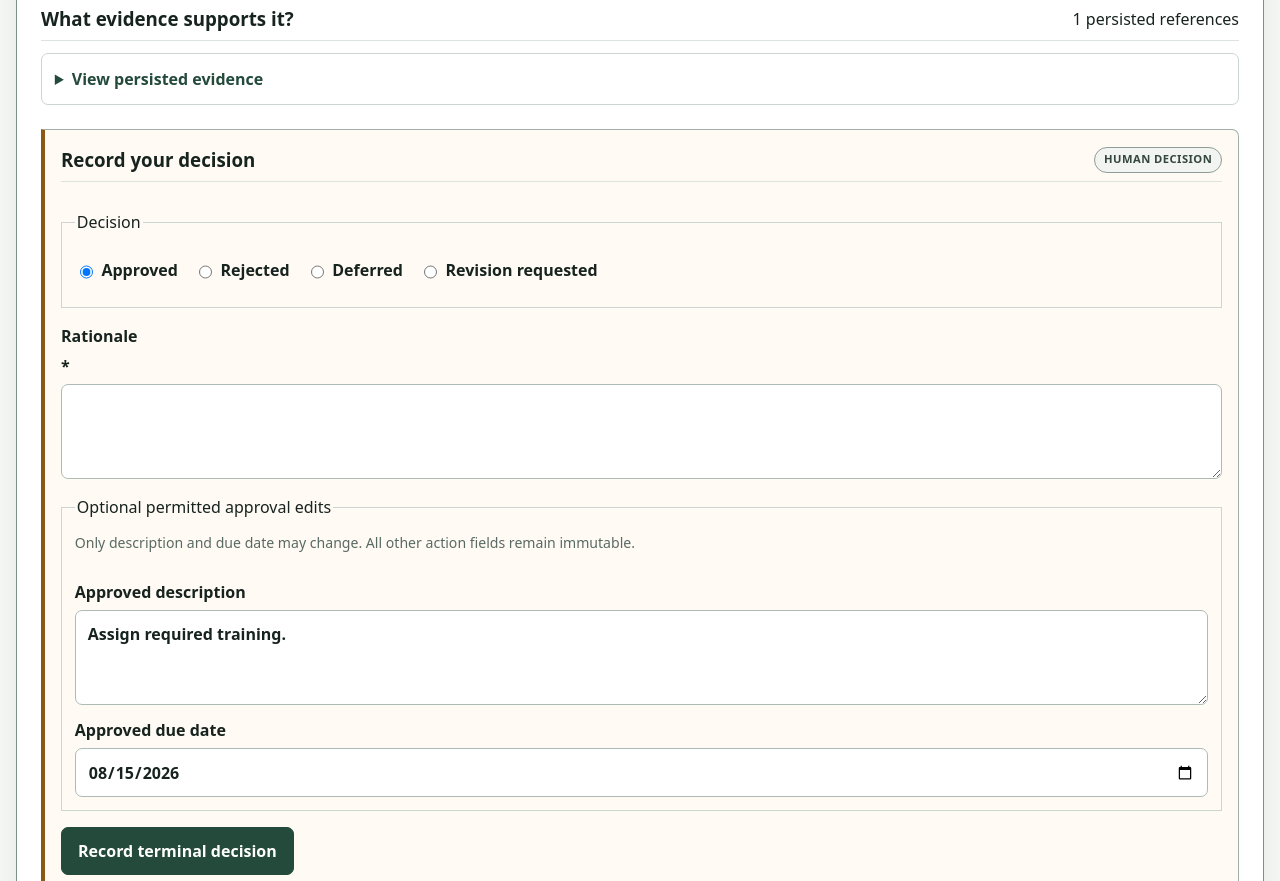
Test: approval workbench › reloads and explains an already-decided conflict
(page scrolled)
In the text box labelled "Rationale *": (642, 432) [61,384,1222,479], type "My decision."
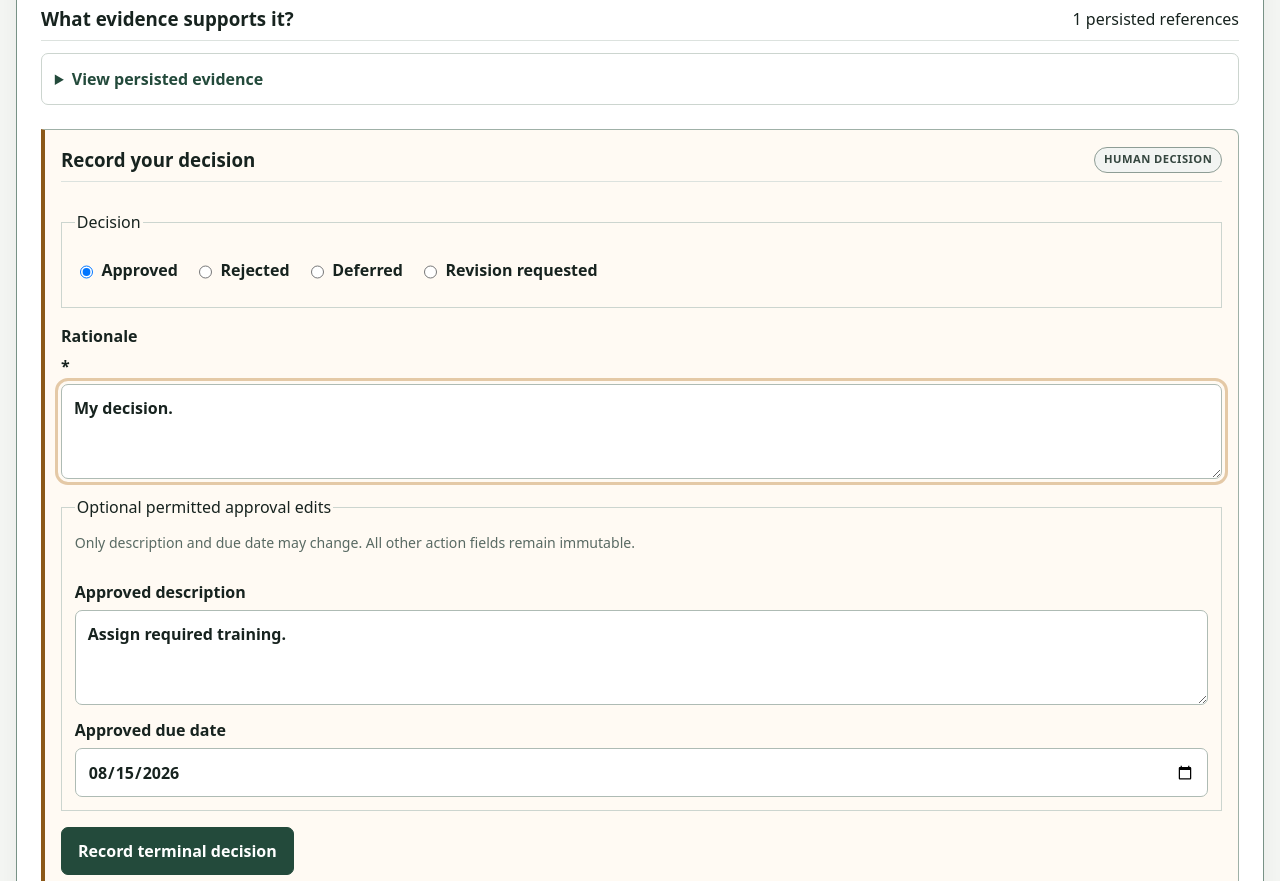
Click the button "Record terminal decision": (177, 851) [61,827,294,875]
(page scrolled)
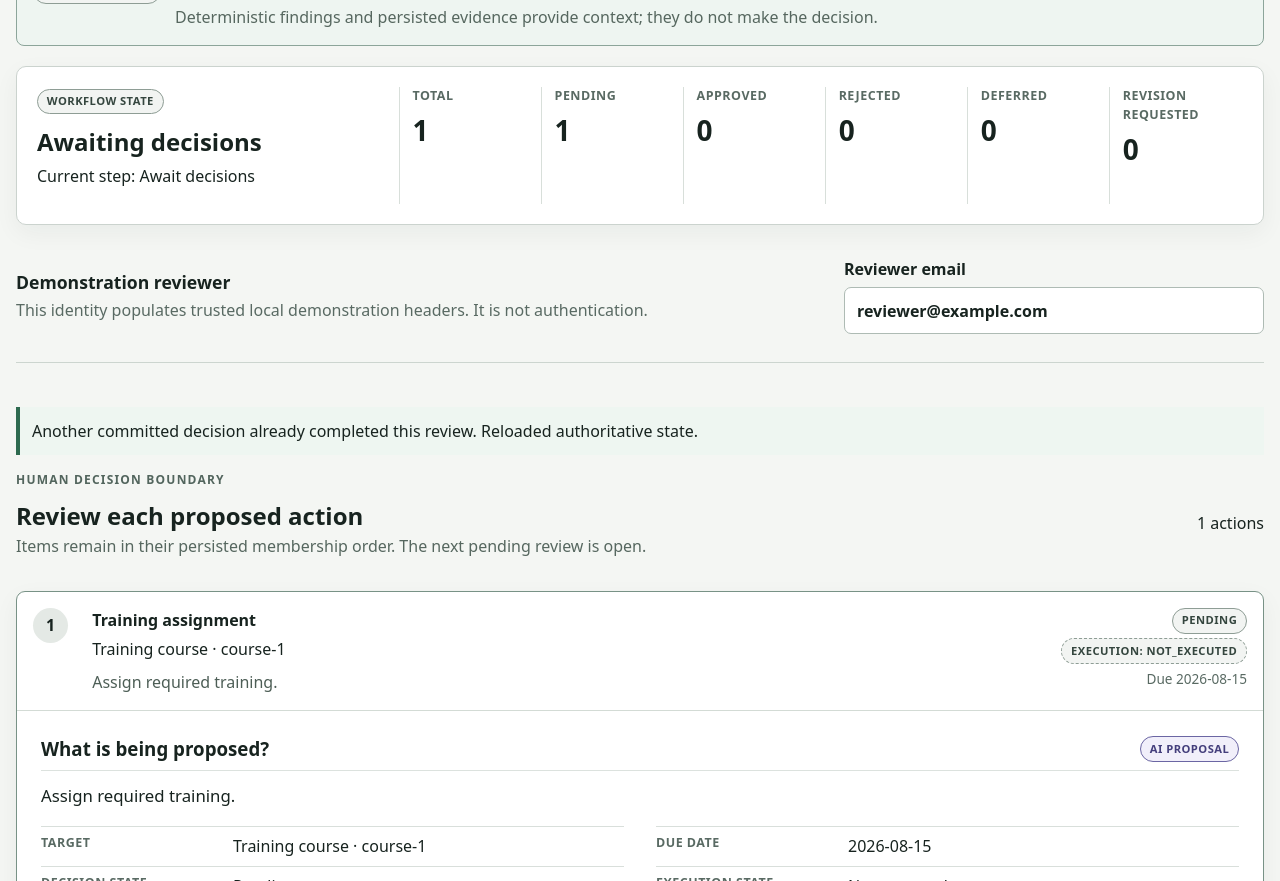
Check: the text "Another committed decision already completed this review" is shown, box [32,420,698,442]
